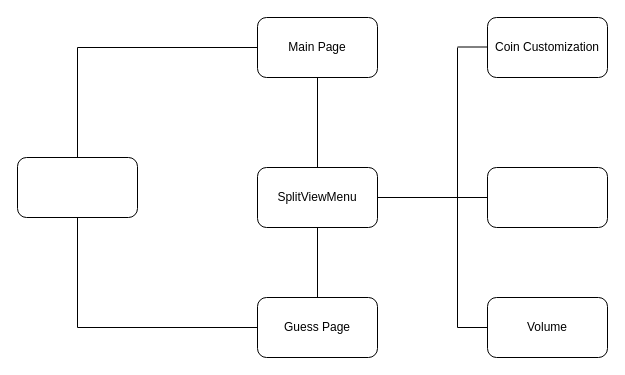
The diagram is 625 pixels wide and 375 high, and some of its shapes have lost their labels. The centre of each missing label's shape, as x and y in pixels:
"Flip Duration" belongs at point 547,197.
"HistoryItem Class" belongs at point 77,187.
